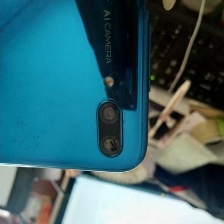phone: (0, 0, 152, 181)
